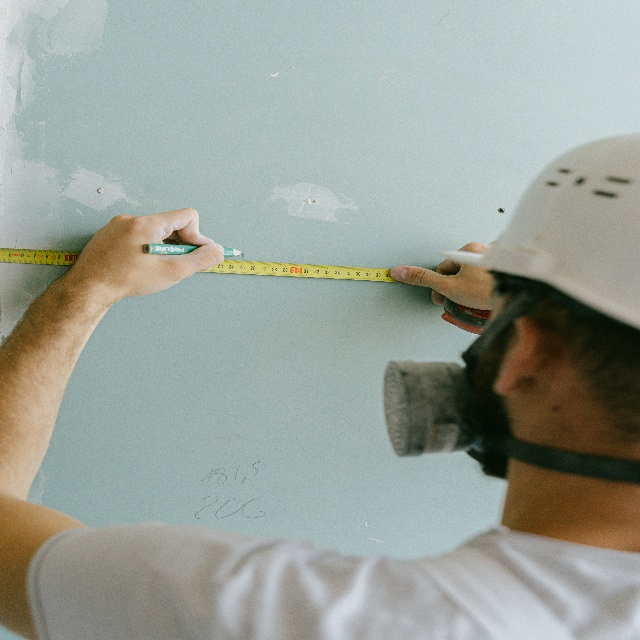Sin_guantes: (81, 207, 224, 298), (387, 241, 508, 311)
